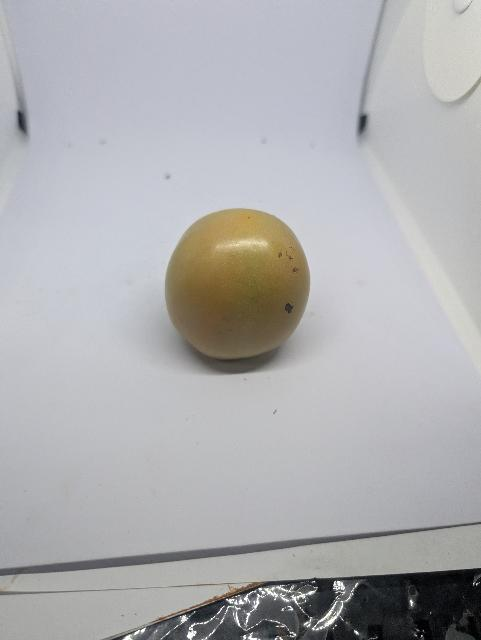breaker: (165, 209, 310, 359)
